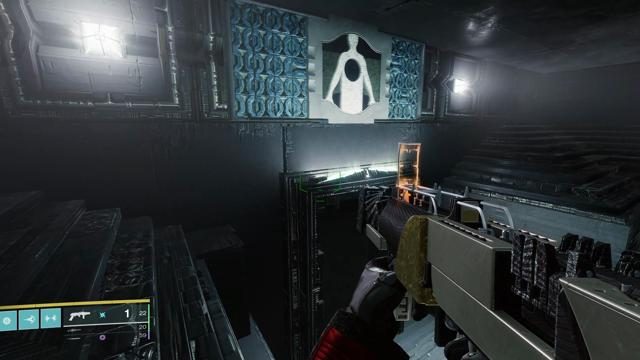grief: (322, 32, 382, 115)
